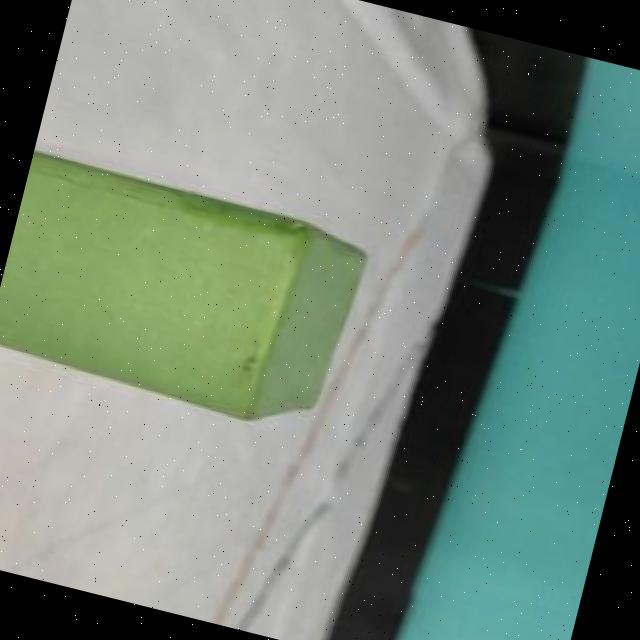greenbox: (0, 148, 378, 443)
